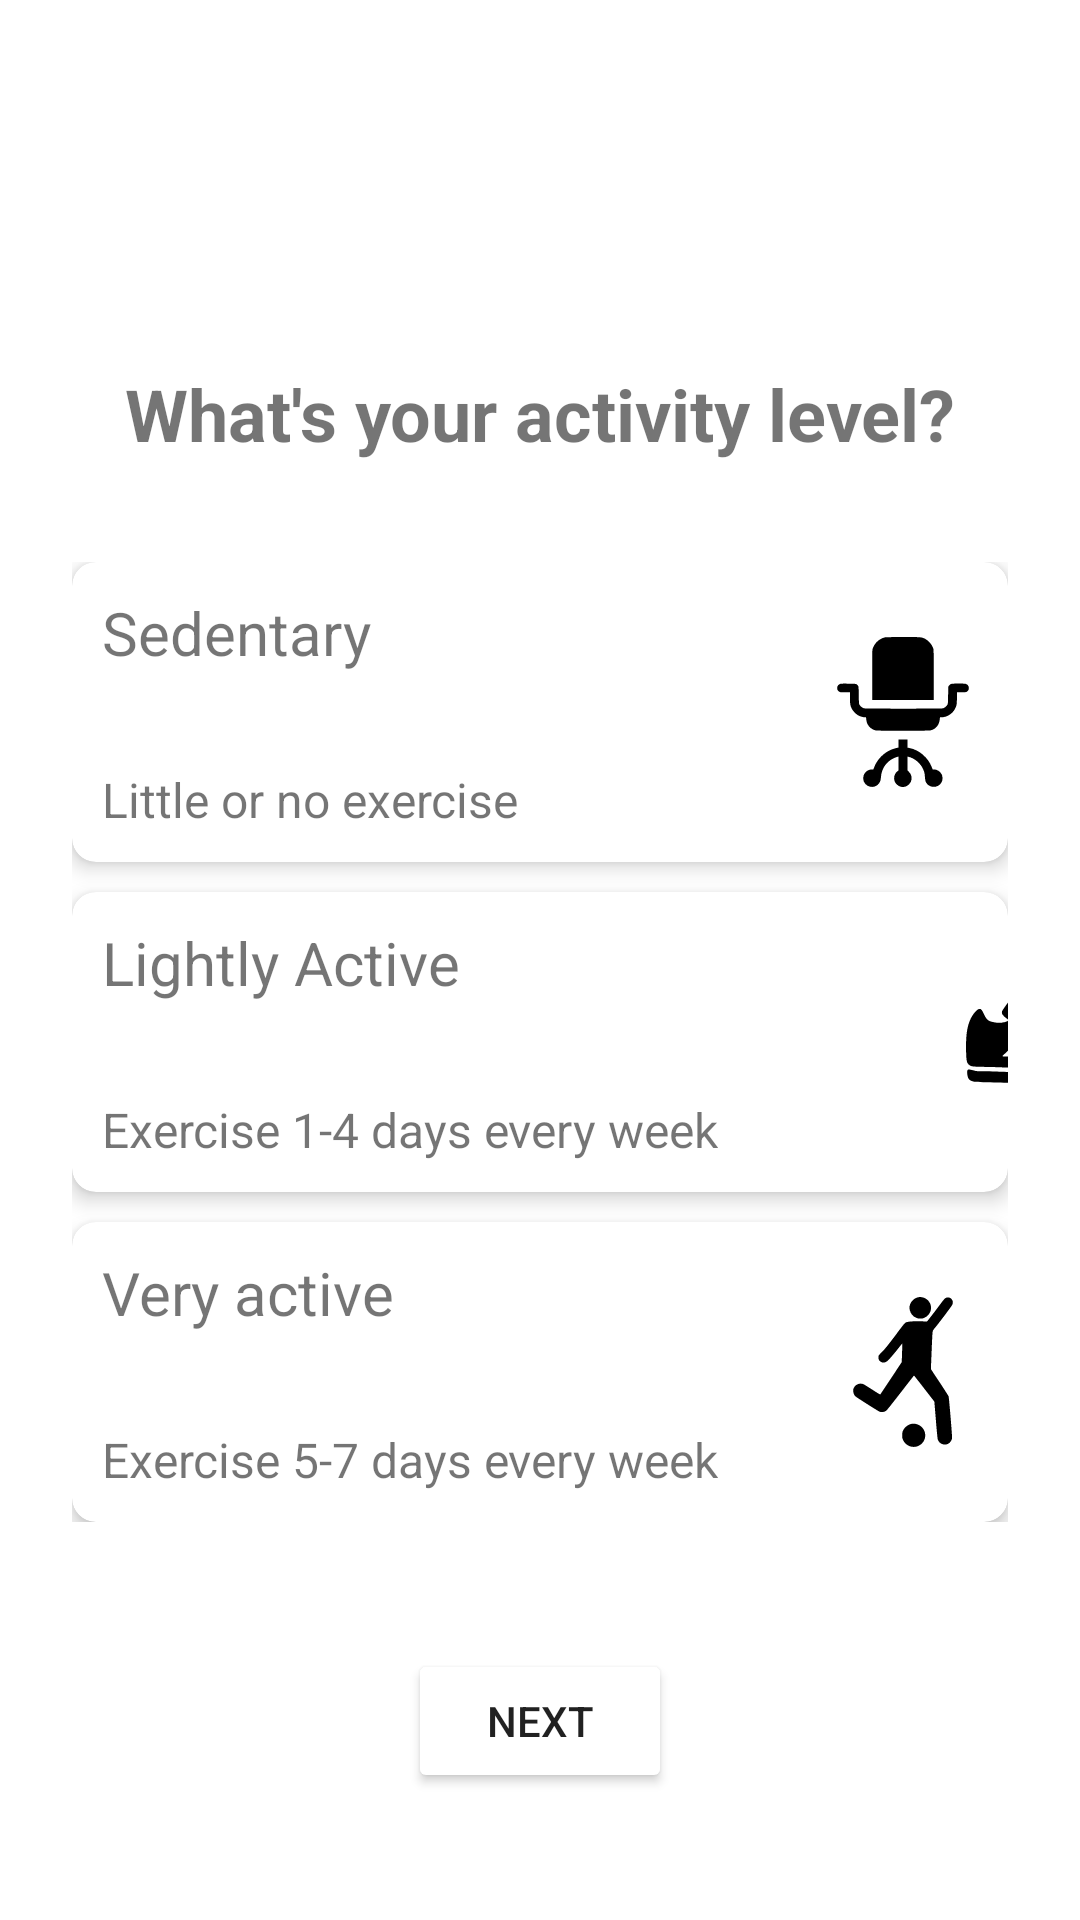

Icon bounding boxes for this 1080×1920 phone screenshot, format (x1, y1, x2, y2):
sedentary: (837, 637, 969, 787)
